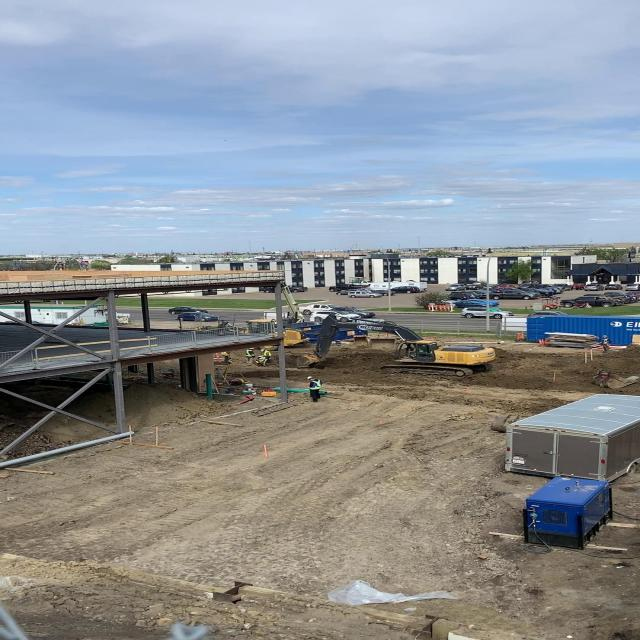Excavator: (310, 314, 499, 384)
Loader: (219, 319, 304, 349)
